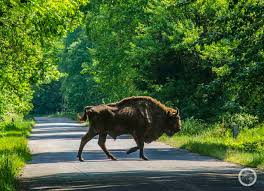zubr: (68, 92, 186, 162)
